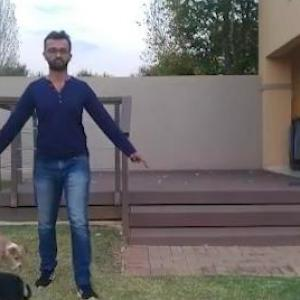land: (0, 43, 137, 281)
